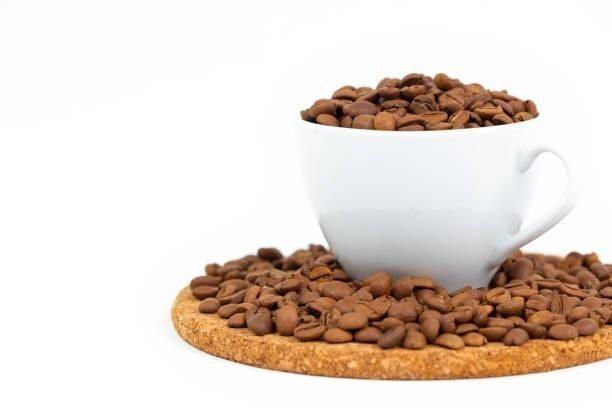cup-handle: (291, 92, 588, 296)
